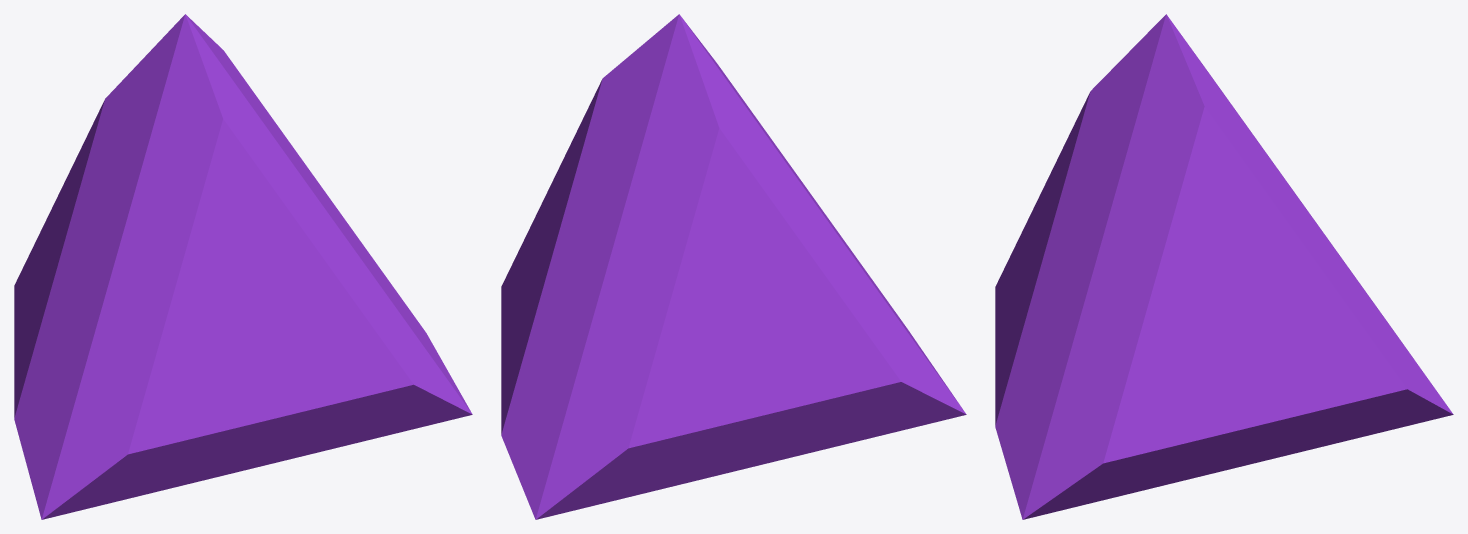
Rendered from Purple.fbx.
3 renders of one model, left to right at view 1: azimuth 30°, elevation 25°; view 2: azimuth 150°, elevation 25°; view 3: azimuth 270°, elevation 25°, orthographic.
Parts seen in each view (by area): view 1: Cone; view 2: Cone; view 3: Cone.
Boxes of the visible parts, <box> form: Cone: <box>14,14,472,519</box>; Cone: <box>501,14,966,519</box>; Cone: <box>995,14,1453,519</box>.
Size of the model in its own units: 113 by 100 by 104.
